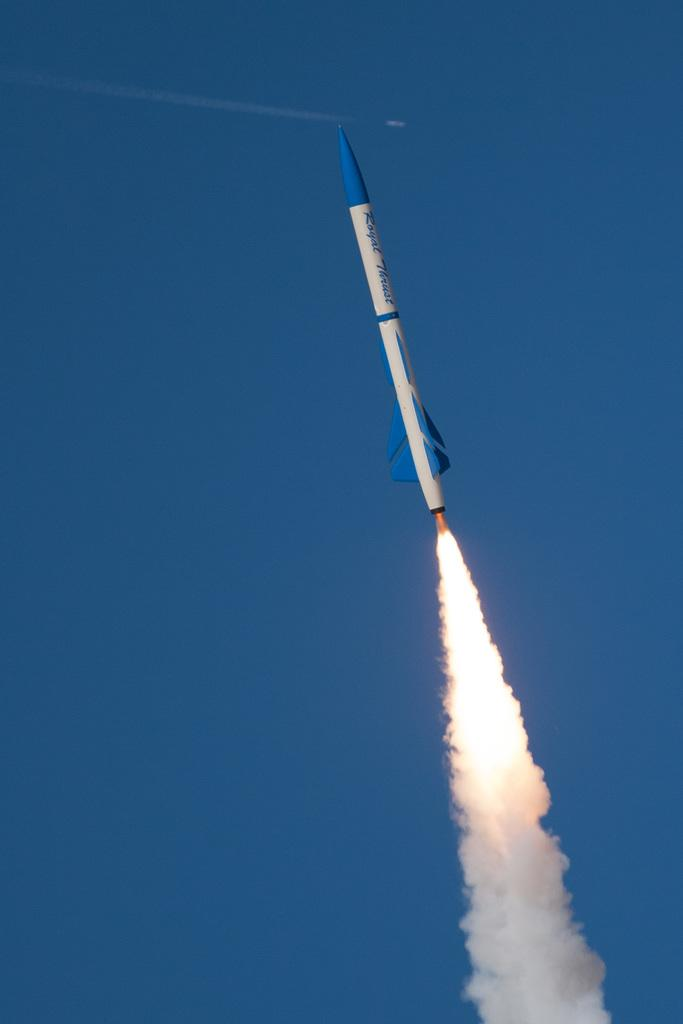Missile: (313, 111, 456, 539)
